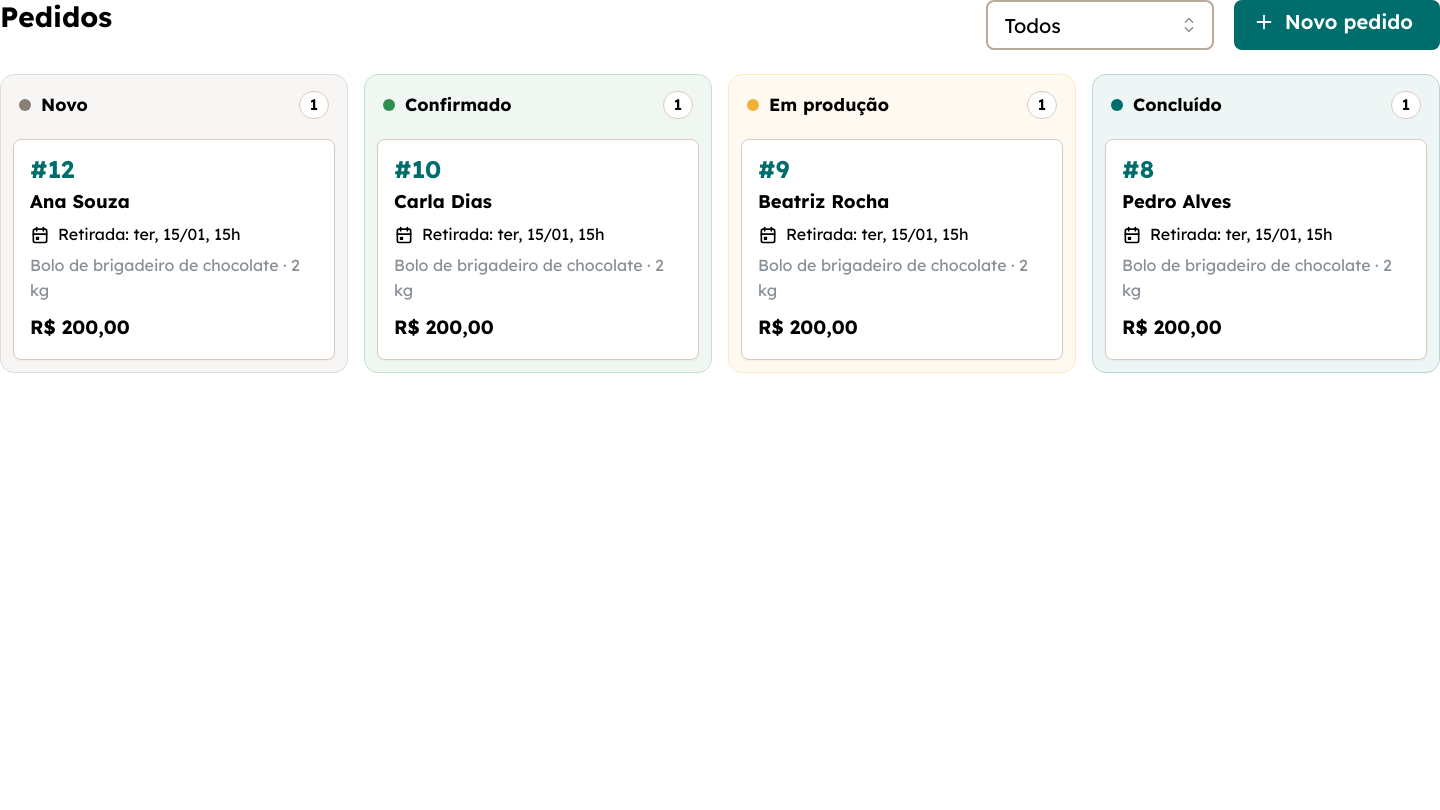
Test case: PaginaPedidos (US4, RF07, RF08) › no computador › abre os detalhes do pedido e devolve o foco ao card ao fechar (RF08)
Click the button with aria-label "Pedido 12, Ana Souza" at (80, 201), box [13,139,335,360]
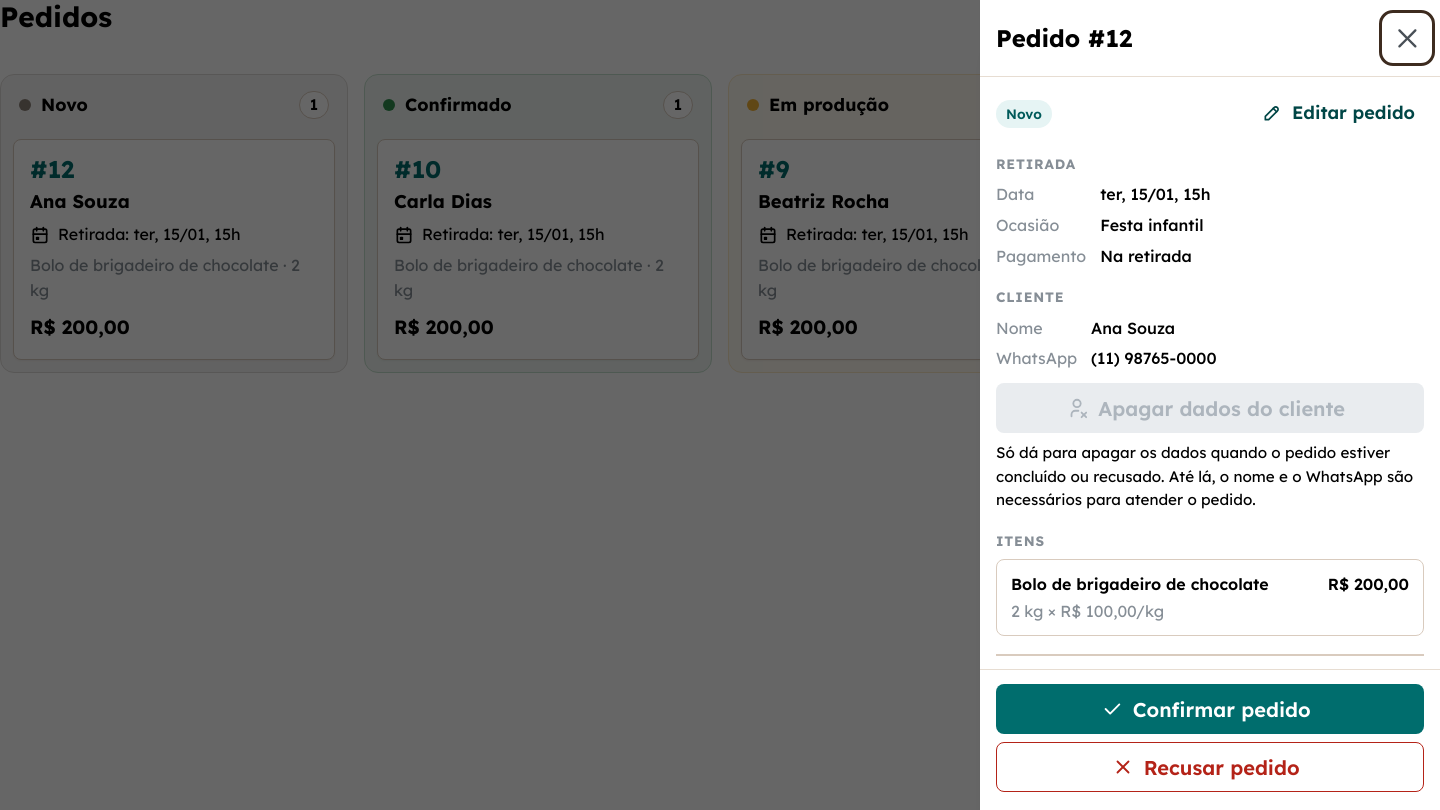
Expected: the text "Festa infantil" is shown, [1100,215,1204,235]
Expected: the text "(11) 98765-0000" is shown, [1091,348,1216,368]
Expected: the text "R$ 200,00" is shown, [1328,572,1409,597]
Press Escape
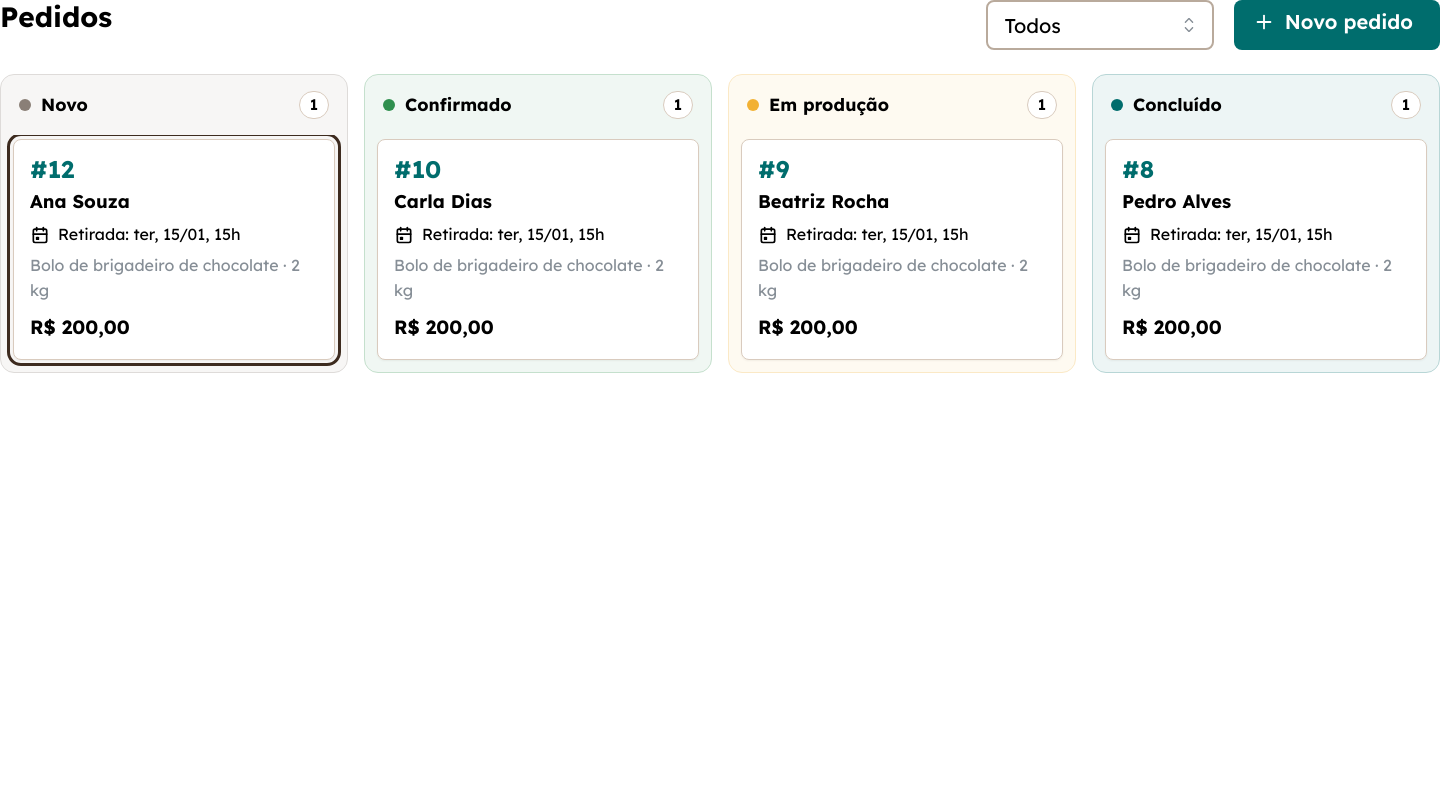
Expected: the dialog is gone
